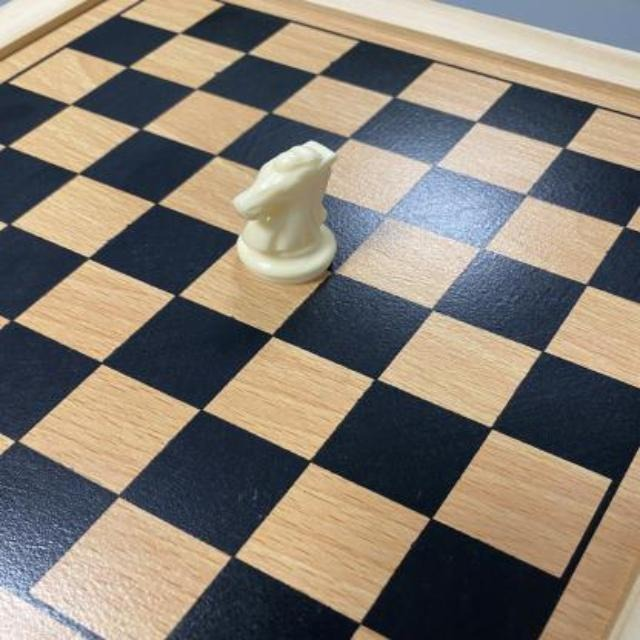white-knight: (234, 141, 341, 281)
